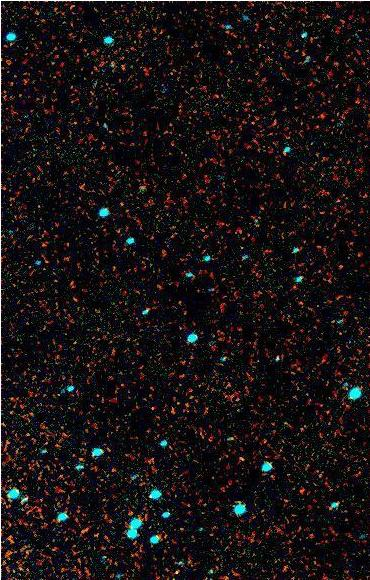star: (160, 558, 190, 580)
